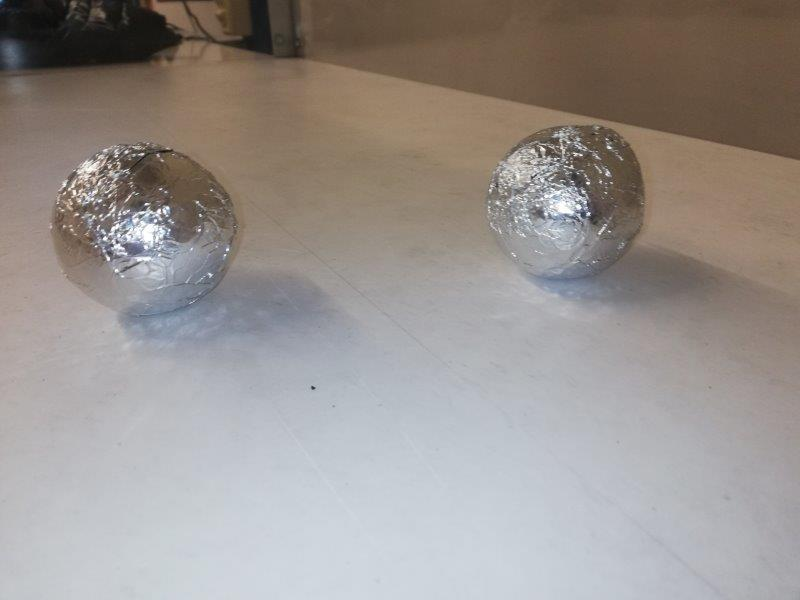bianca: (50, 142, 238, 320), (483, 124, 646, 280)
